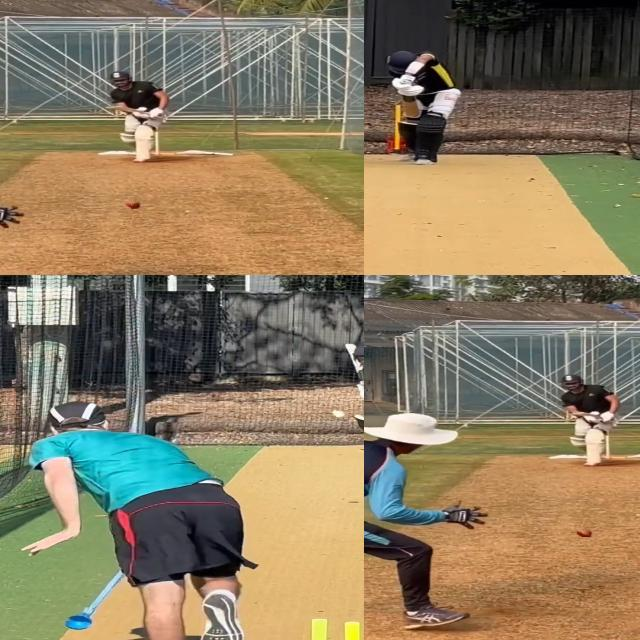Cricket ball: (329, 407, 348, 419), (124, 199, 141, 209), (575, 529, 593, 537)
